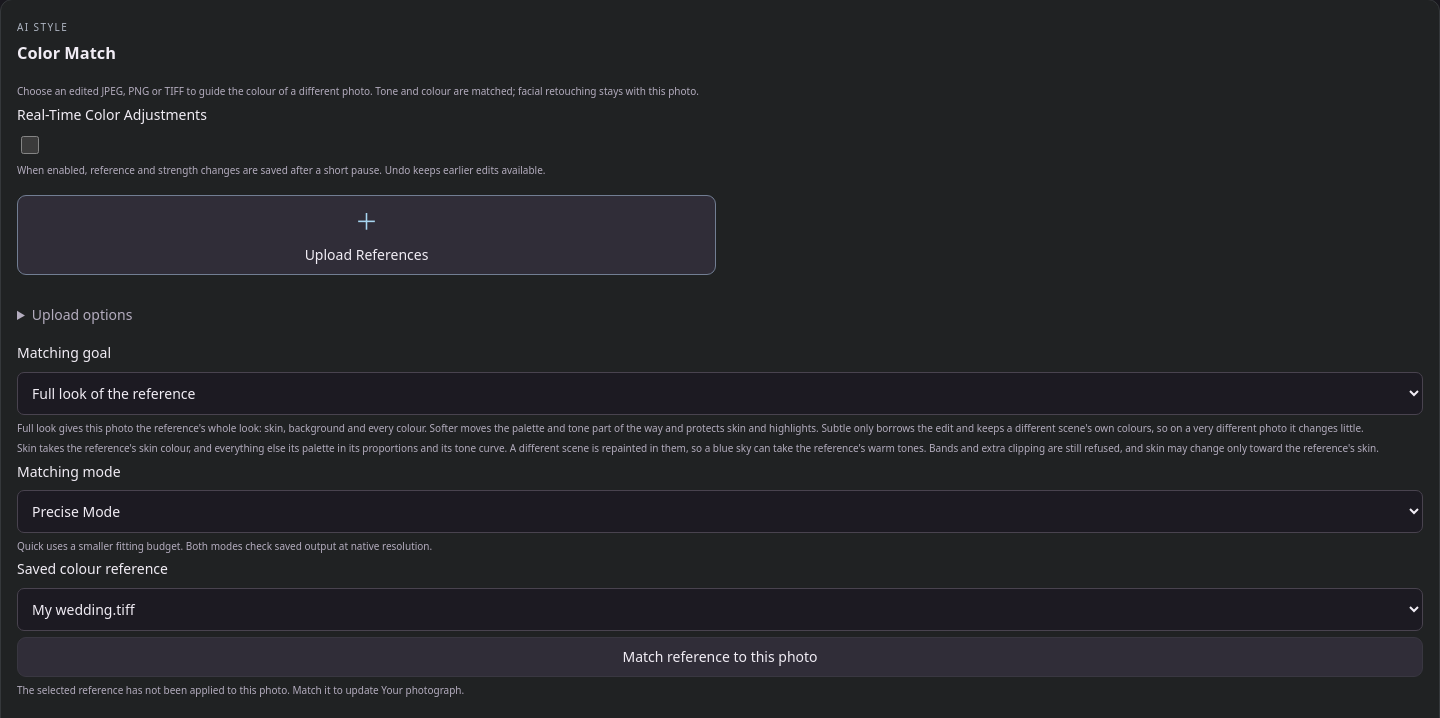
Test: treats an edit that is still saving as nothing saved
Step 1. Click the button "Match reference to this photo" → coordinates (720, 657), box [17,637,1423,677]
(page scrolled)
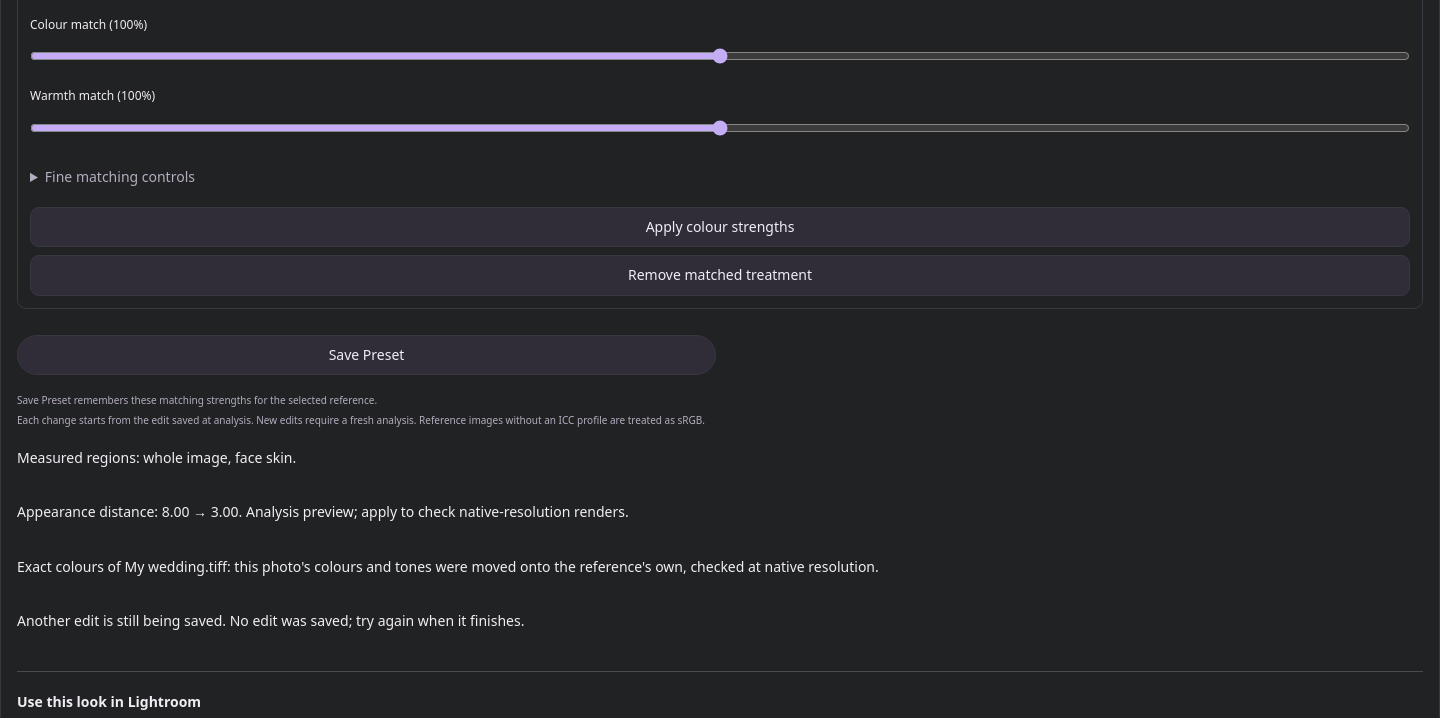
Expected: the 2nd message shows "Another edit is still being saved", [17,611,524,630]
